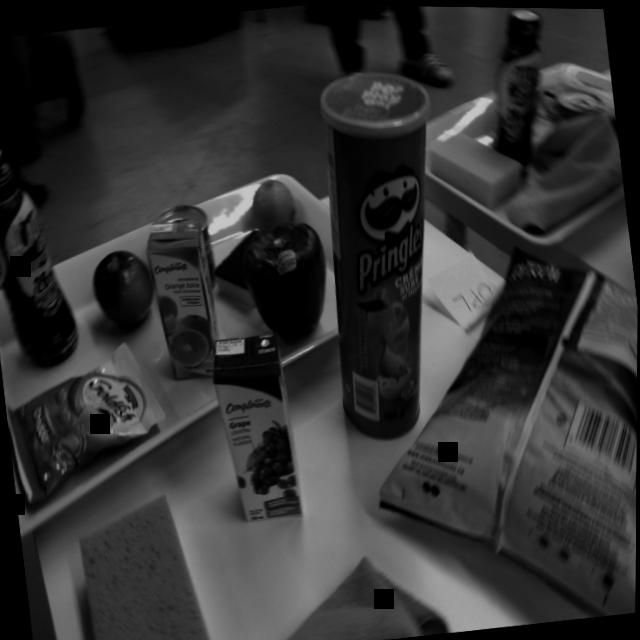apple: (87, 246, 157, 321)
chocolate_drink: (477, 6, 563, 172)
grape_juice: (206, 327, 310, 528)
orange: (247, 173, 300, 232)
paprika: (238, 216, 332, 342)
potato_chips: (416, 235, 639, 631)
pringles: (298, 60, 470, 443)
scrubby: (211, 228, 264, 313)
sponge_opl: (68, 483, 220, 640)
